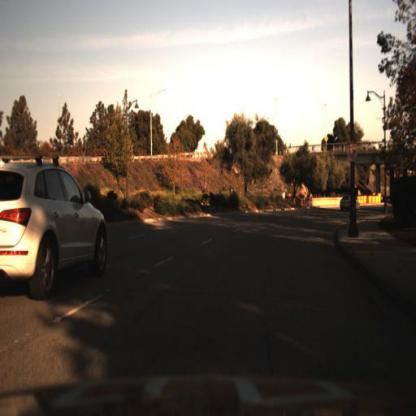car: (1, 161, 113, 303), (340, 190, 362, 213)
